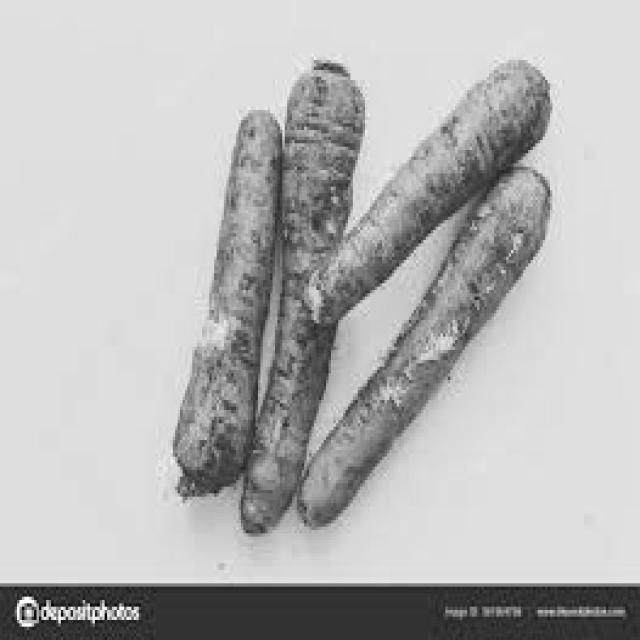Stale_Carrot: (289, 158, 551, 512), (236, 48, 371, 540), (309, 65, 555, 329), (172, 98, 292, 500)
